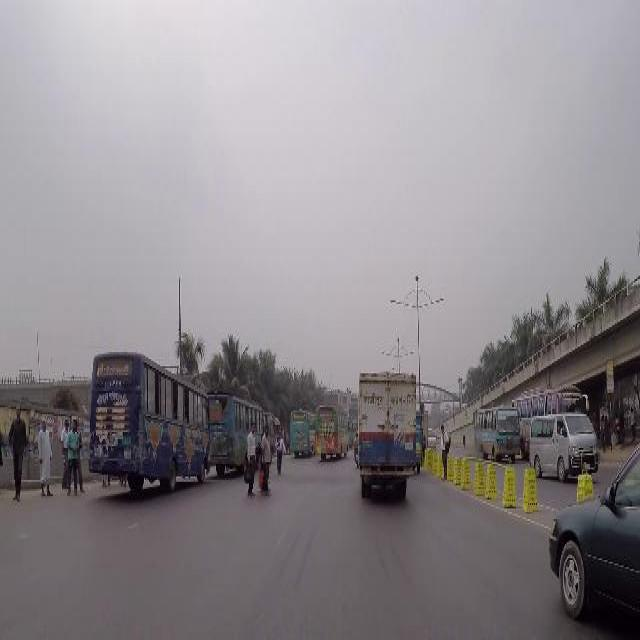vehicle: (88, 350, 212, 496), (545, 445, 638, 639), (359, 371, 417, 499), (511, 385, 589, 456), (529, 412, 602, 482), (208, 388, 264, 475), (475, 403, 521, 463), (316, 404, 351, 459), (289, 408, 316, 458), (428, 427, 438, 446)
